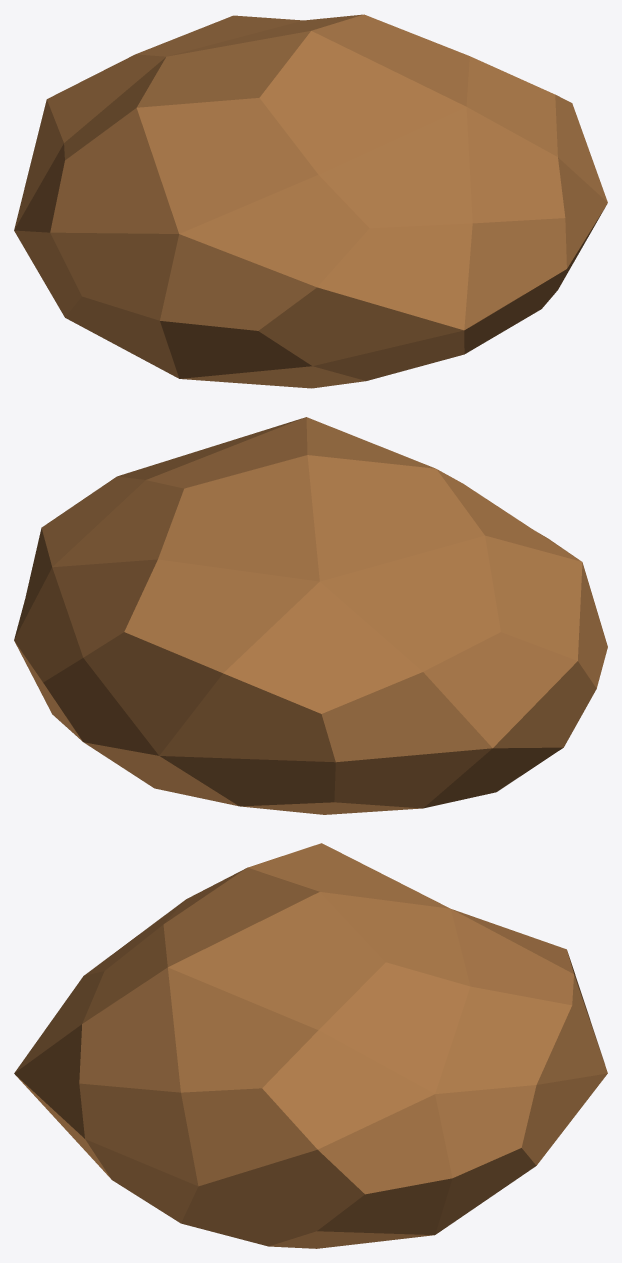
The model's file is Medium_Rock_0.5,0.5,0.25_Colored.fbx.
3 renders of one model, top to bottom at view 1: azimuth 30°, elevation 25°; view 2: azimuth 150°, elevation 25°; view 3: azimuth 270°, elevation 25°, orthographic. The views are drawn at different scales.
Parts seen in each view (by area): view 1: Medium_Rock_0_5_0_5_0_25; view 2: Medium_Rock_0_5_0_5_0_25; view 3: Medium_Rock_0_5_0_5_0_25.
Boxes of the visible parts, x1,y1,x2,y2 form: Medium_Rock_0_5_0_5_0_25: (14,14,607,388); Medium_Rock_0_5_0_5_0_25: (14,417,607,814); Medium_Rock_0_5_0_5_0_25: (14,843,607,1248).
Size of the model in its own units: 48.58 by 25.71 by 48.6.
